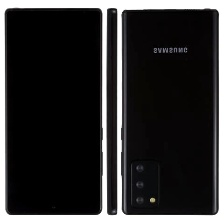phone: (3, 5, 104, 218), (121, 6, 221, 216), (105, 6, 118, 218)
